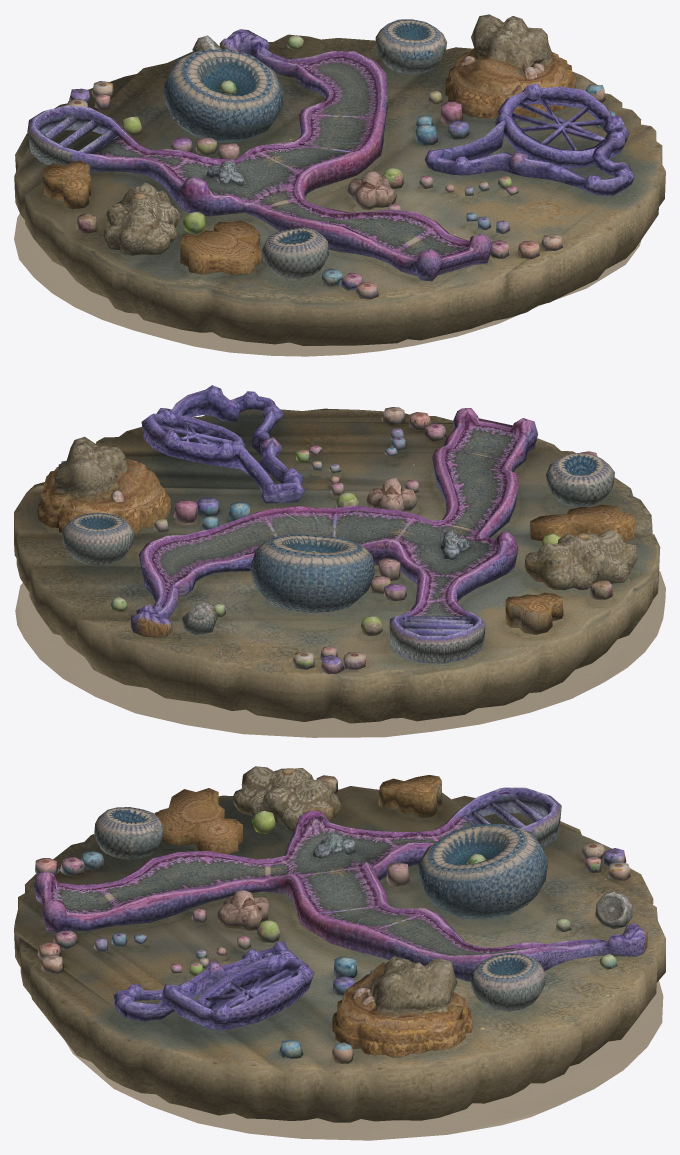
The model's file is rna-world-tripo.failed-tripo.glb.
3 renders of one model, top to bottom at view 1: azimuth 30°, elevation 25°; view 2: azimuth 150°, elevation 25°; view 3: azimuth 270°, elevation 25°, orthographic. The views are drawn at different scales.
Visible parts, largest first — view 1: tripo_node_6467ca34-ffa0-404d-8cbd-a4ca65b502de; view 2: tripo_node_6467ca34-ffa0-404d-8cbd-a4ca65b502de; view 3: tripo_node_6467ca34-ffa0-404d-8cbd-a4ca65b502de.
Boxes of the visible parts, x1,y1,x2,y2 form: tripo_node_6467ca34-ffa0-404d-8cbd-a4ca65b502de: (14,14,665,356); tripo_node_6467ca34-ffa0-404d-8cbd-a4ca65b502de: (14,385,665,737); tripo_node_6467ca34-ffa0-404d-8cbd-a4ca65b502de: (14,766,665,1140).
Bounding box in the file's own units: 1.02 × 0.2402 × 0.9599.
Materials: 1 (1 with a texture image).
